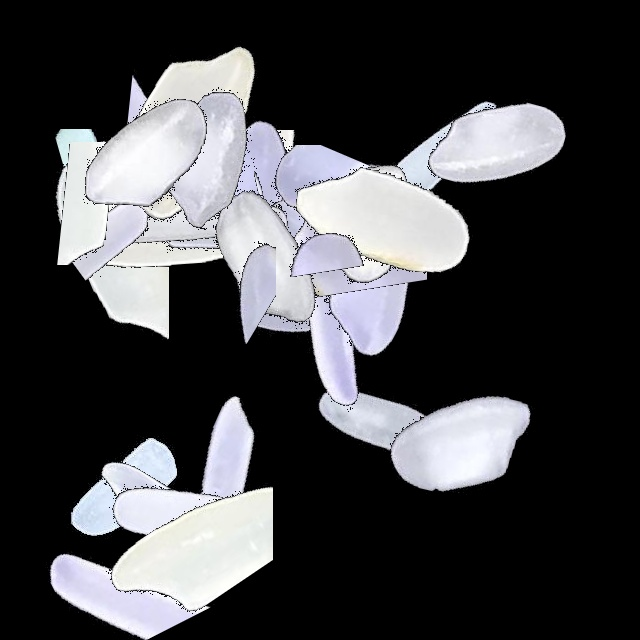Broken: (0, 143, 169, 393), (106, 390, 273, 640), (0, 482, 250, 640), (180, 145, 430, 294), (258, 151, 508, 299), (253, 218, 395, 468), (114, 193, 364, 329), (146, 130, 396, 264), (68, 55, 318, 187), (298, 99, 427, 349), (0, 164, 250, 291), (0, 142, 250, 265), (240, 193, 490, 313), (157, 153, 276, 403), (0, 129, 250, 239), (88, 0, 198, 250), (199, 208, 449, 317), (266, 94, 371, 344), (255, 136, 505, 231), (185, 21, 275, 271), (210, 72, 295, 322), (251, 33, 335, 283), (88, 130, 338, 207), (160, 139, 235, 389)
Full: (255, 299, 505, 549), (0, 81, 250, 331), (263, 96, 513, 346), (97, 363, 347, 613), (334, 318, 584, 568), (109, 23, 359, 273), (43, 95, 293, 345), (169, 119, 419, 369), (0, 363, 250, 613), (121, 53, 371, 303), (177, 121, 427, 371), (91, 101, 341, 351), (50, 390, 300, 640), (205, 178, 455, 428), (44, 92, 294, 342), (58, 390, 308, 640), (245, 165, 495, 415), (311, 28, 561, 278), (64, 27, 314, 277), (59, 0, 309, 250), (249, 99, 499, 349), (140, 138, 390, 388), (259, 95, 509, 345), (83, 32, 333, 282), (374, 20, 624, 270), (20, 25, 270, 275)
